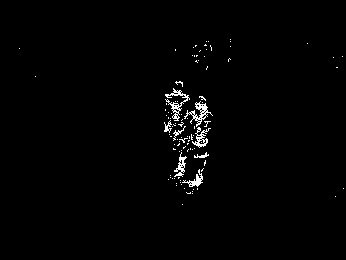person: (182, 92, 213, 194), (162, 77, 191, 180)
